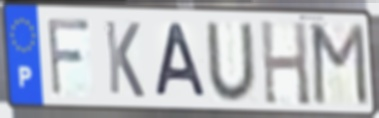A: (152, 20, 209, 100)
F: (44, 15, 93, 99)
H: (257, 17, 313, 108)
K: (102, 17, 147, 101)
M: (310, 21, 371, 109)
U: (202, 20, 260, 104)
